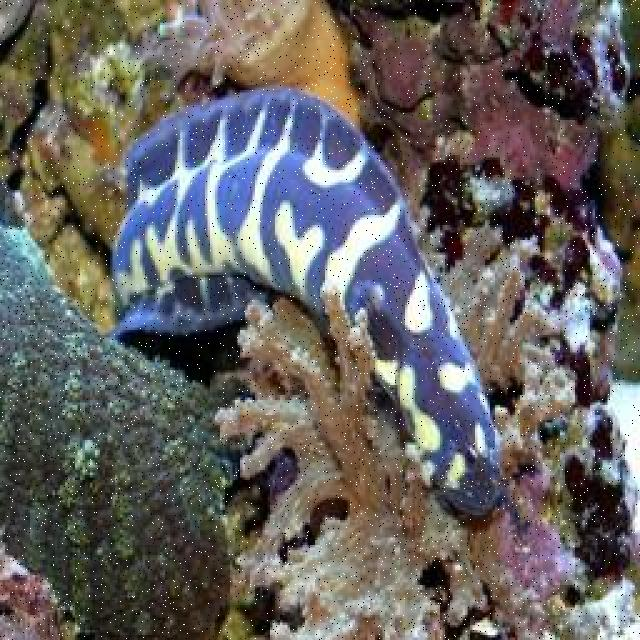fish: (110, 87, 503, 519)
reefs: (209, 162, 591, 638), (126, 0, 366, 134)
